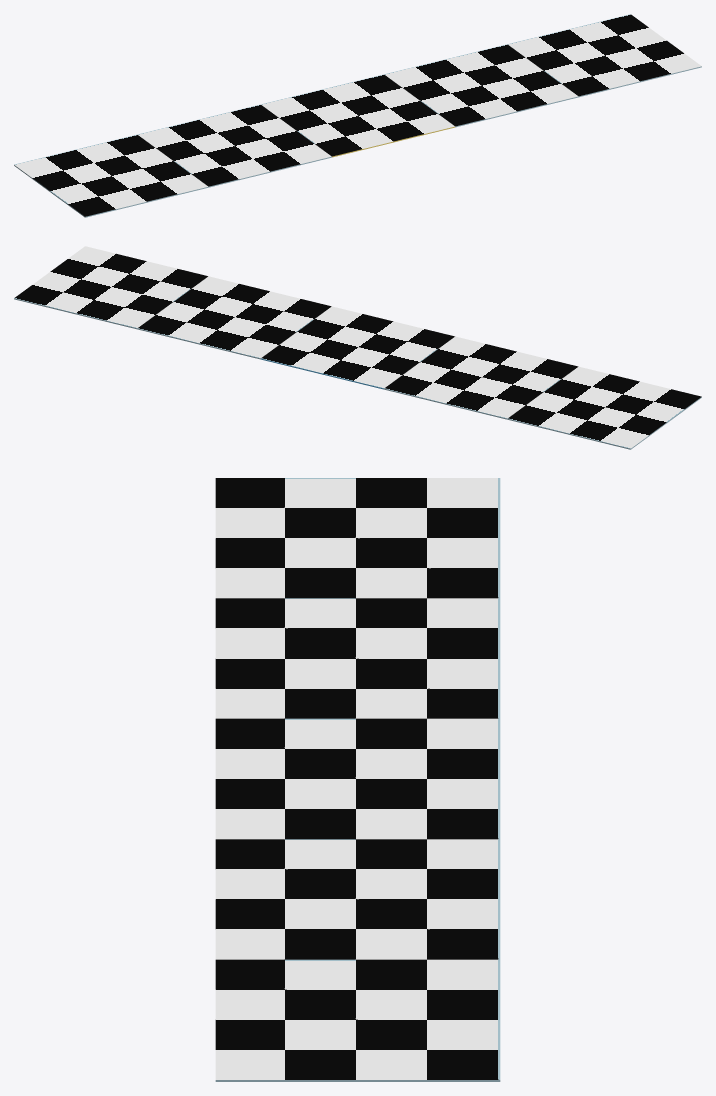
The model's file is floor_tiles_1.0.gltf.
3 renders of one model, top to bottom at view 1: azimuth 30°, elevation 25°; view 2: azimuth 150°, elevation 25°; view 3: azimuth 270°, elevation 25°, orthographic. The views are drawn at different scales.
Parts seen in each view (by area): view 1: mesh (×5); view 2: mesh (×5); view 3: mesh (×5).
Part boxes in pixels (x1,y1,x2,y2): mesh (×5): (14,14,701,217); mesh (×5): (14,246,701,449); mesh (×5): (215,478,500,1081).
Size of the model in its own units: 40 by 0.0625 by 8.
1 material, 1 textured.
